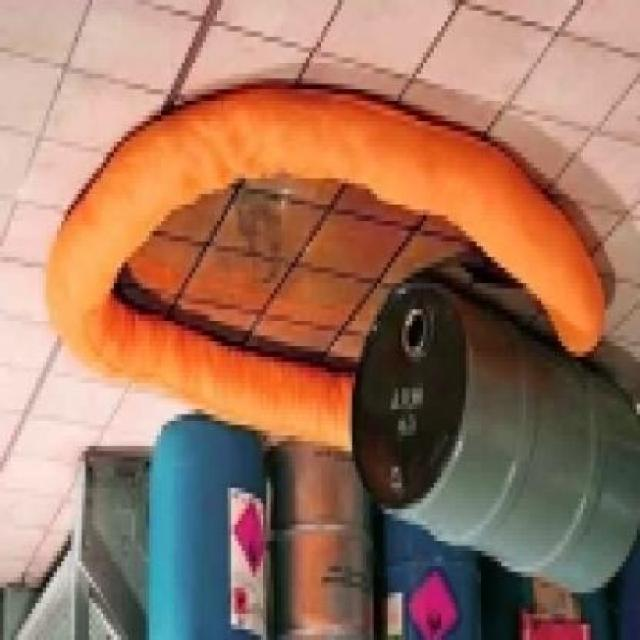spillage: (117, 178, 469, 367)
